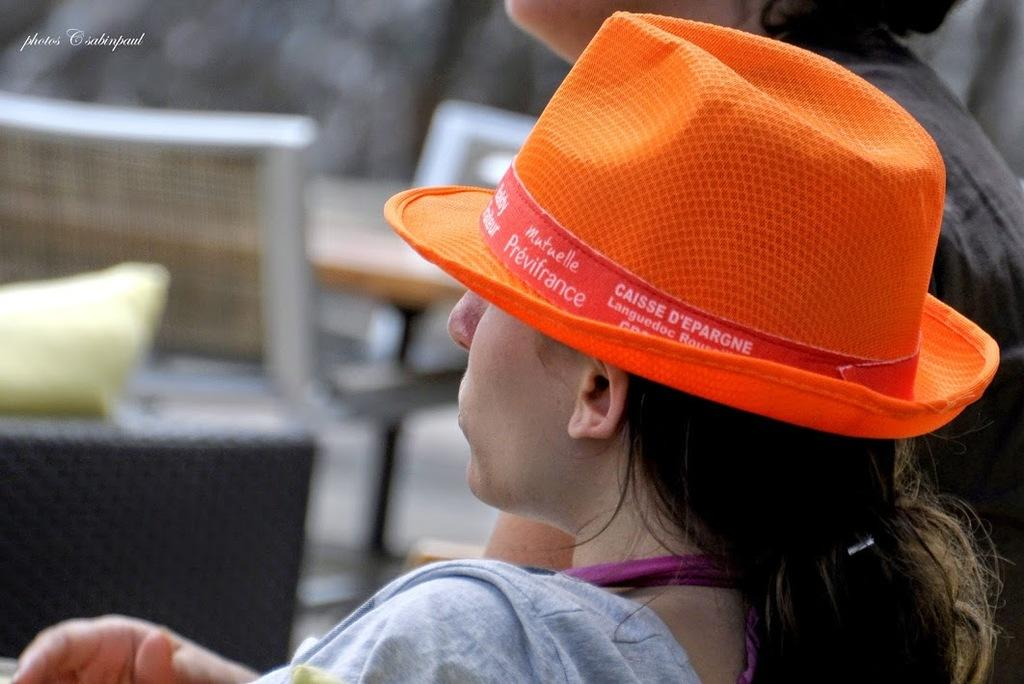Hat: (383, 12, 999, 439)
